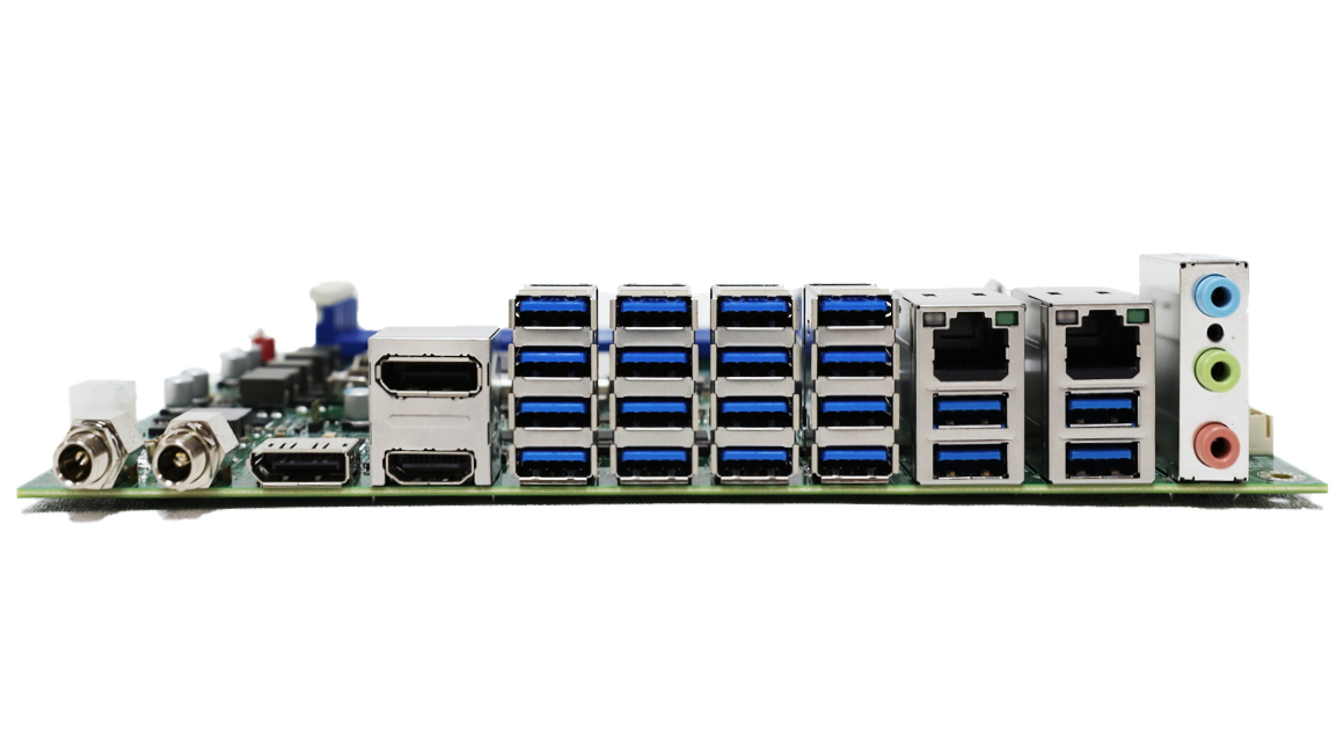Ethernet: (1052, 302, 1154, 384), (924, 310, 1019, 389)
HDMI: (380, 445, 477, 491)
USB: (716, 293, 792, 334)
